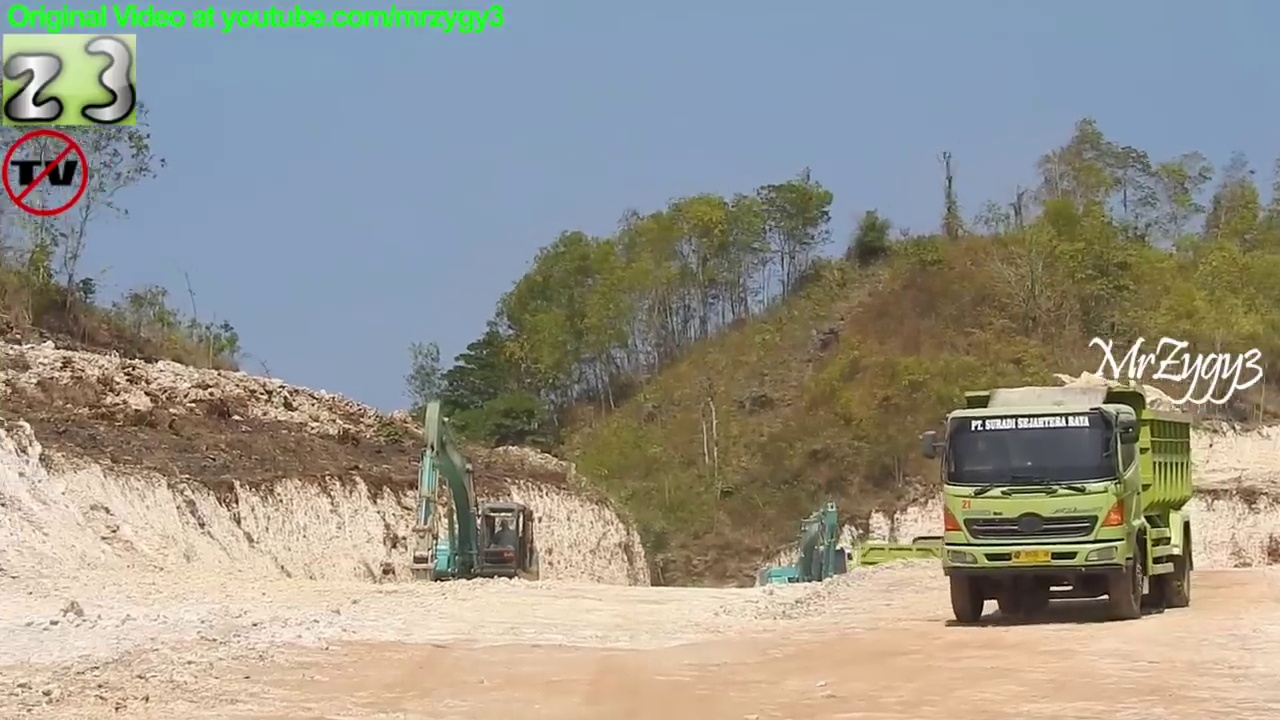excavator: (396, 395, 546, 610), (753, 496, 862, 610)
truck: (916, 379, 1202, 631), (850, 523, 996, 609)
